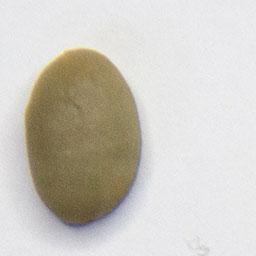premium: (20, 44, 146, 230)
